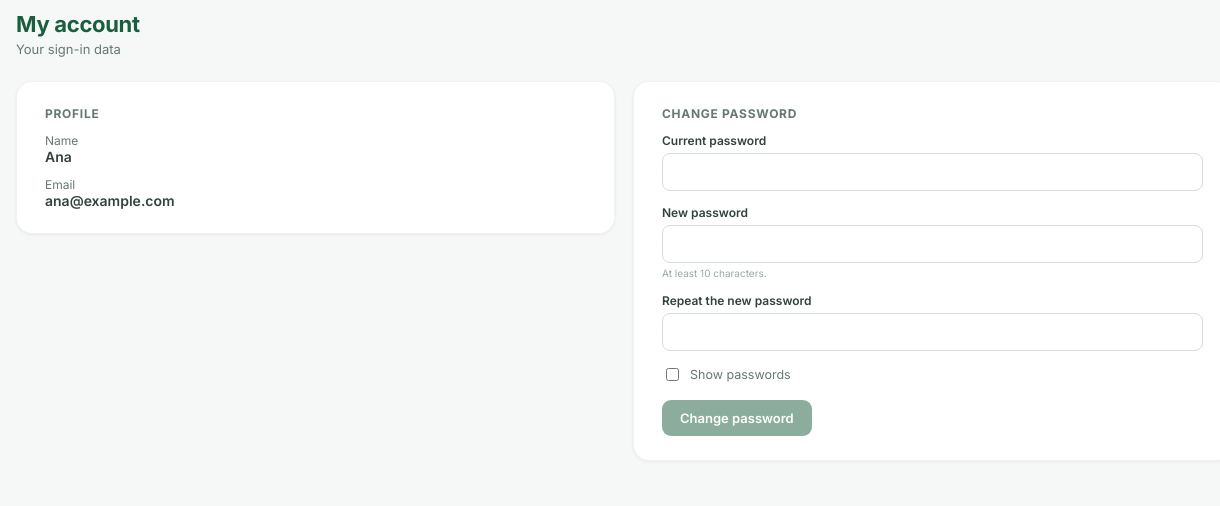
it: AccountScreen › checks the new password before calling the server
This screenshot has width=1220, height=506.
Type "old-password-1" into the password field below "Current password" at [932, 172], box [662, 153, 1203, 191]
Type "short" into the 2nd password field at [932, 244], box [662, 225, 1203, 263]
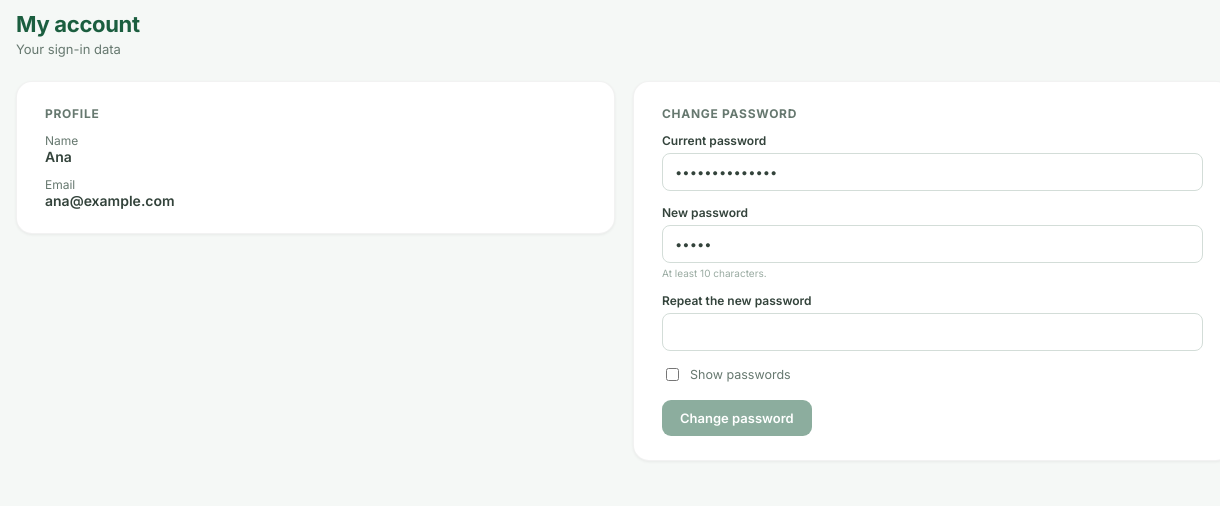
Type "short" into the password field below "Repeat the new password" at [932, 332], box [662, 313, 1203, 351]
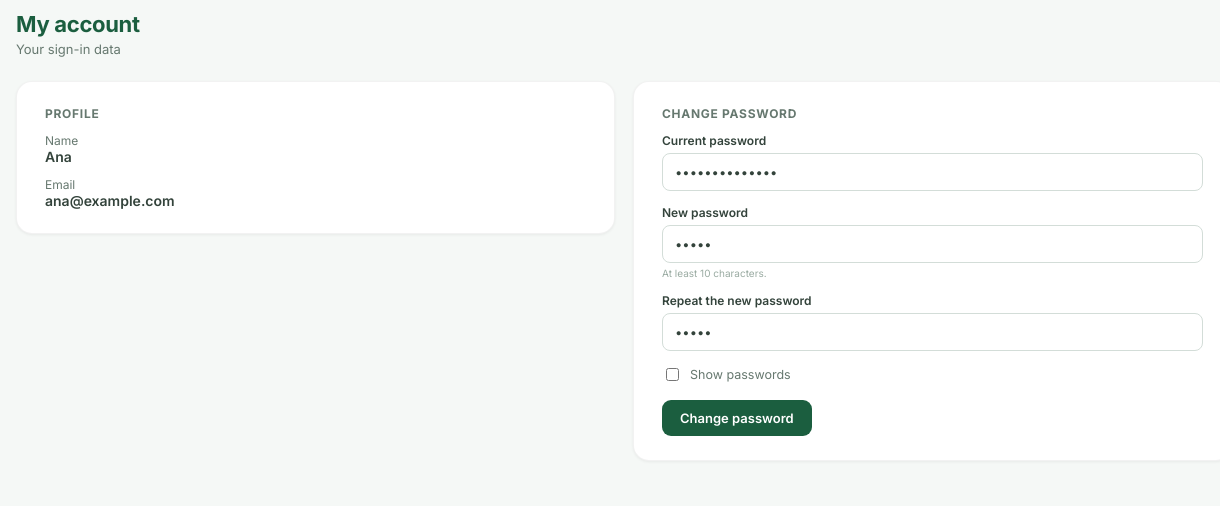
Submit the form, box [662, 133, 1203, 436]
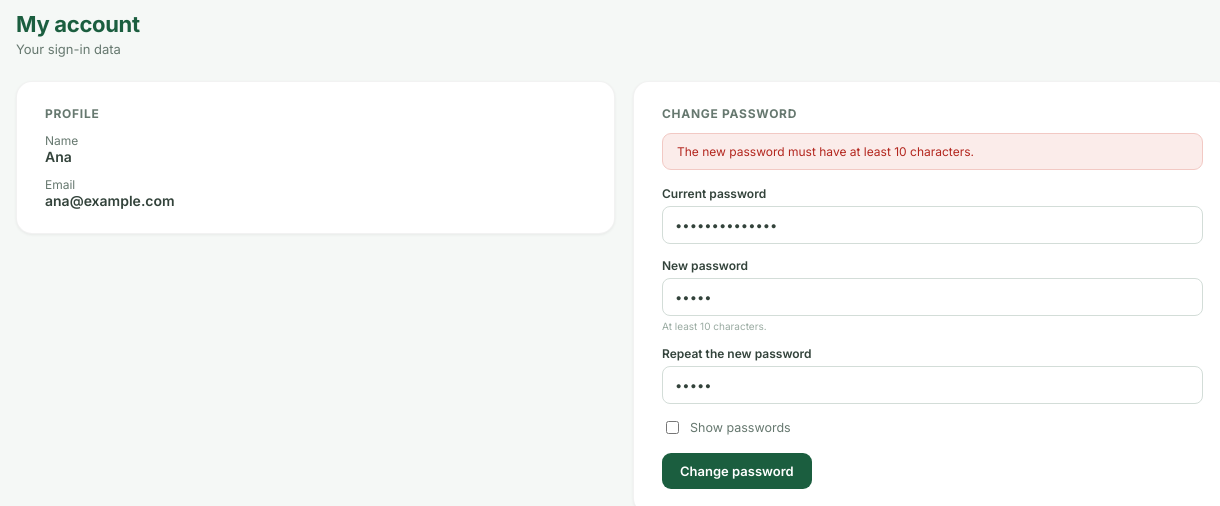
Expected: the text "The new password must have at least 10 characters." is shown, [662, 133, 1203, 170]
Type "long-enough-password" into the 2nd password field at [932, 297], box [662, 278, 1203, 316]
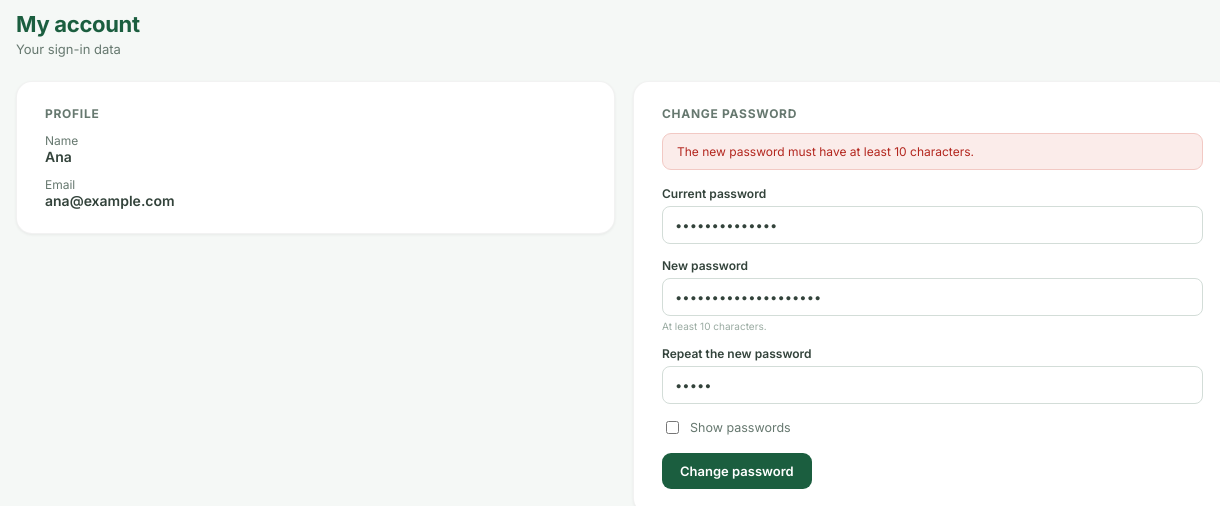
Type "another-long-password" into the password field below "Repeat the new password" at [932, 385], box [662, 366, 1203, 404]
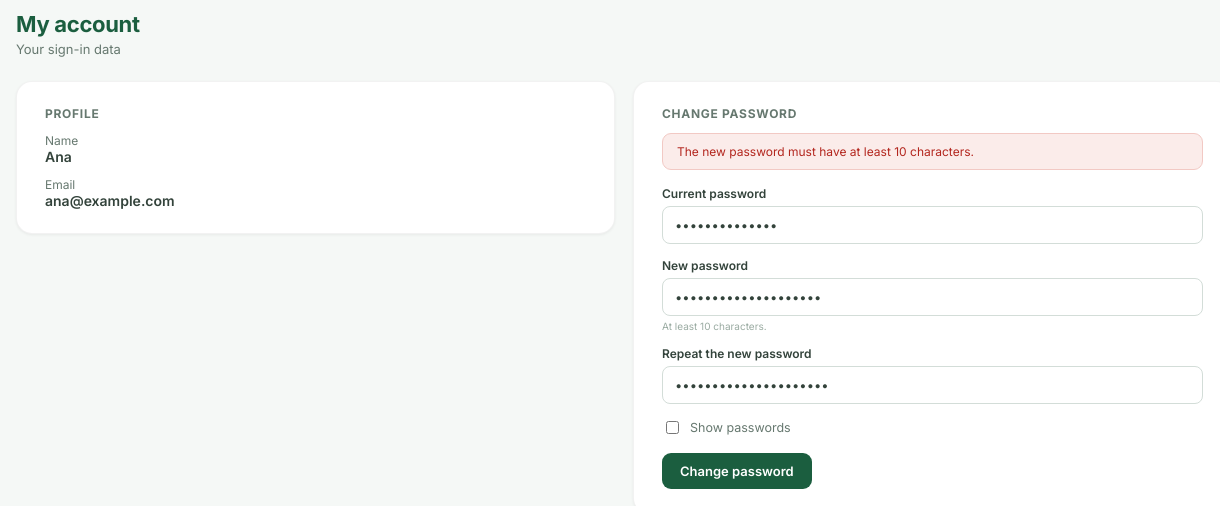
Submit the form, box [662, 133, 1203, 489]
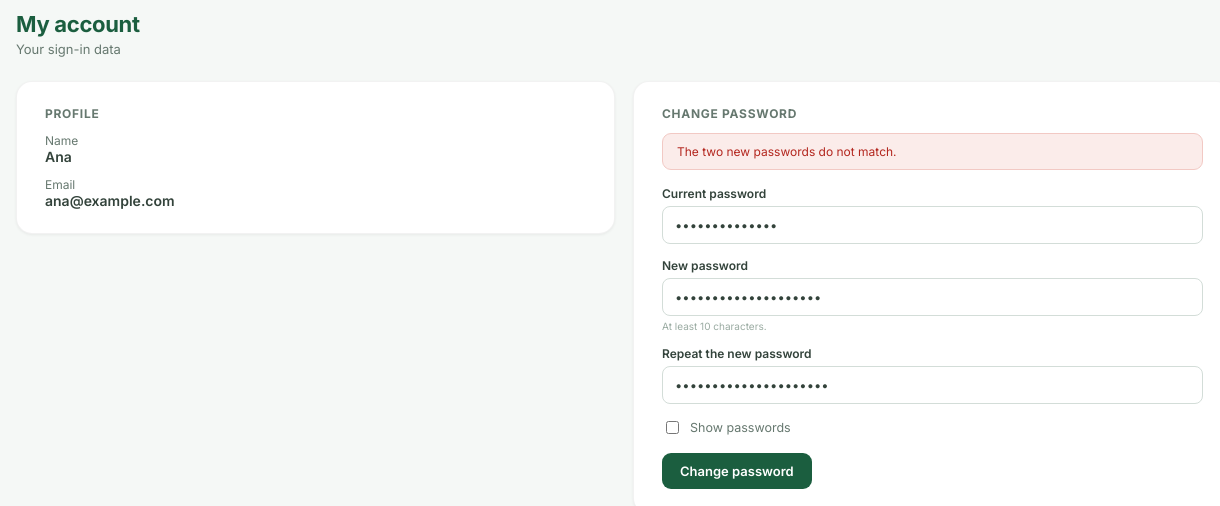
Expected: the text "The two new passwords do not match." is shown, [662, 133, 1203, 170]
